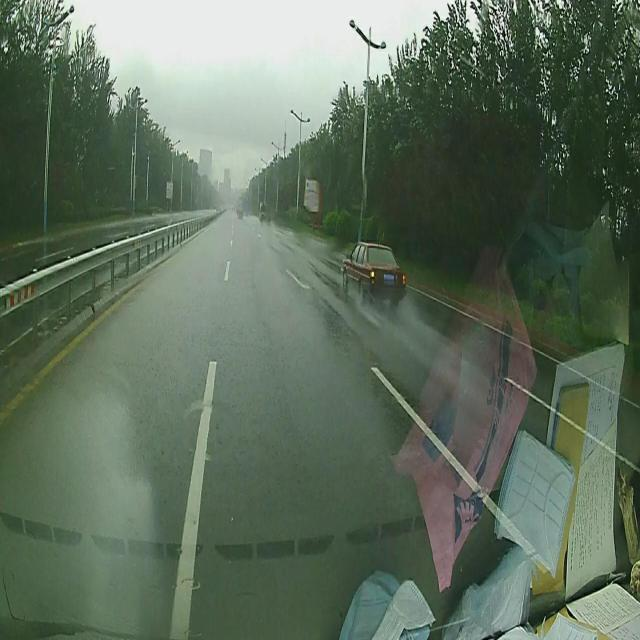car: (342, 240, 407, 308)
